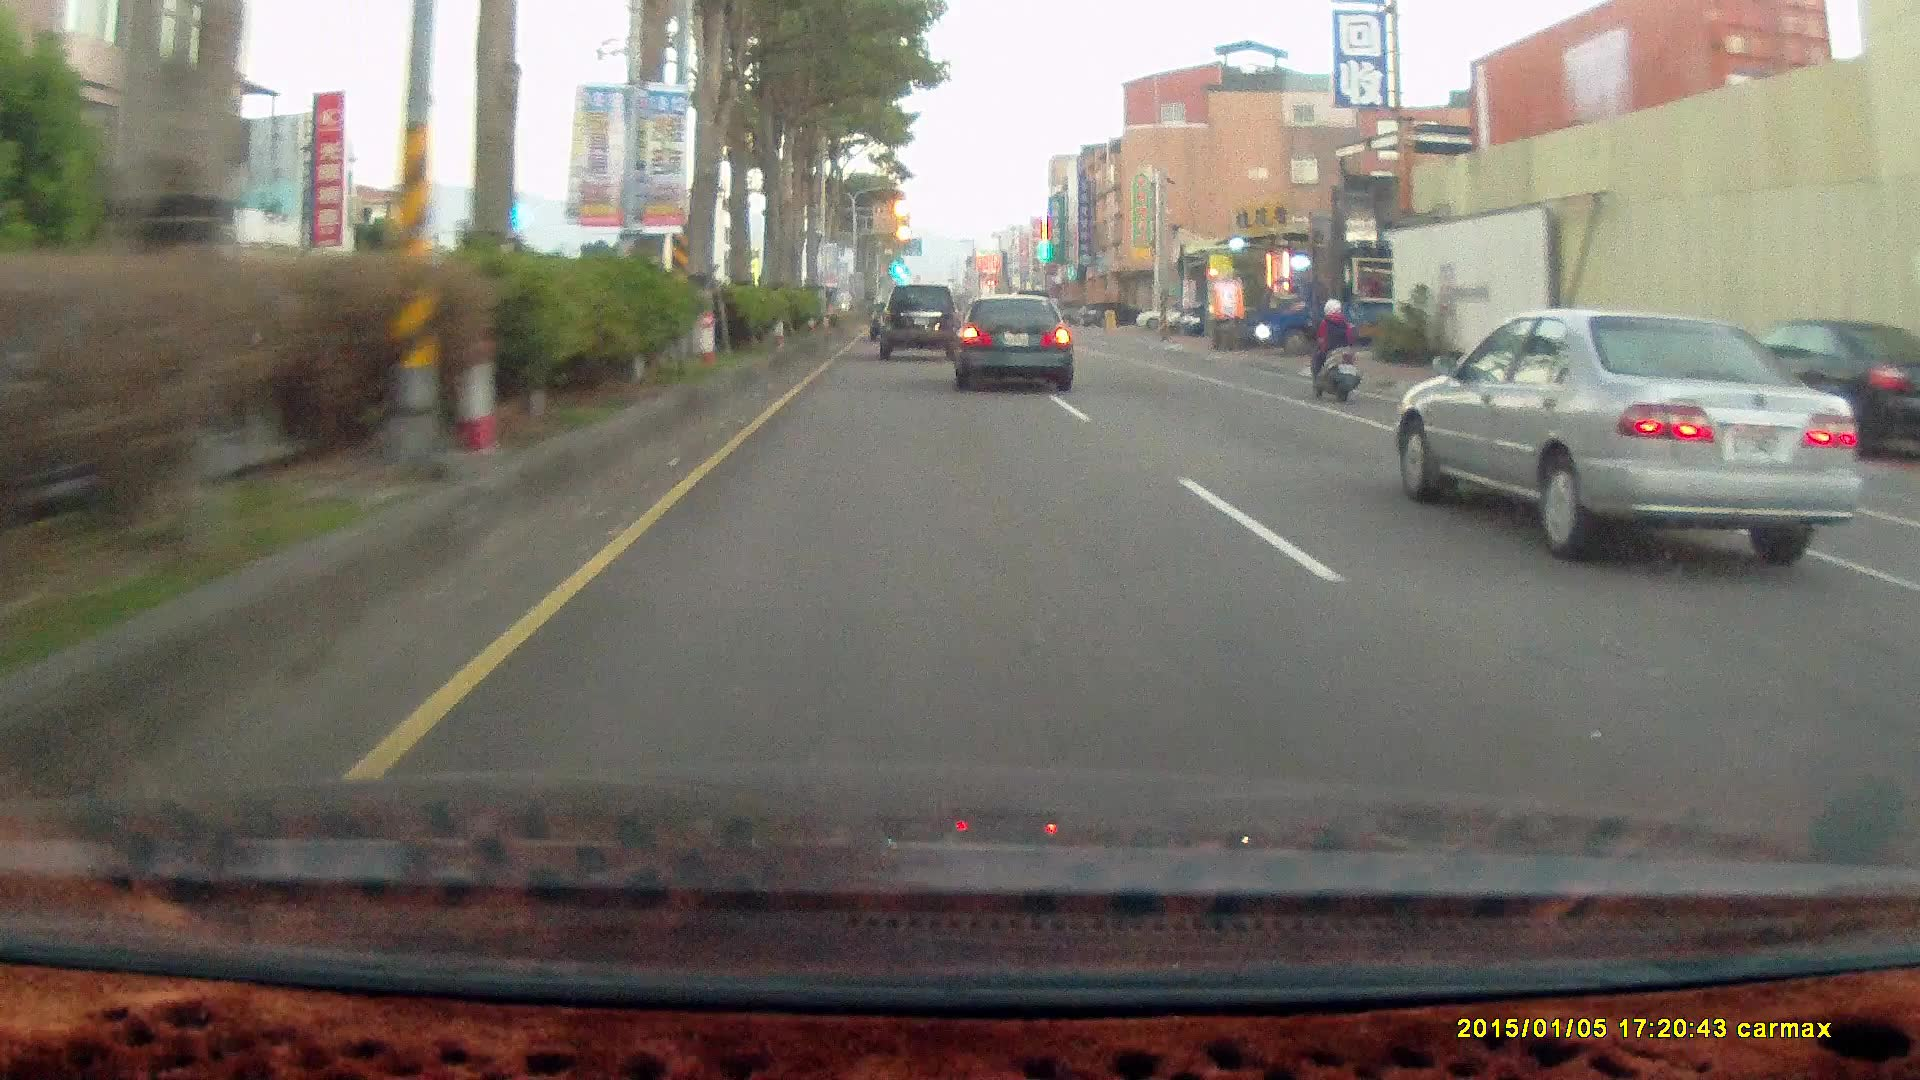rider: (1299, 287, 1371, 413), (1302, 292, 1360, 402)
vehicle: (1394, 304, 1861, 567), (1392, 301, 1864, 556), (1252, 271, 1424, 353), (950, 291, 1073, 392), (956, 293, 1081, 390), (1255, 268, 1402, 345), (879, 282, 961, 357), (878, 283, 961, 354), (1134, 299, 1196, 328), (1081, 298, 1143, 323)
